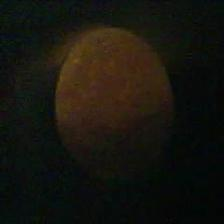fertile: (51, 24, 182, 177)
